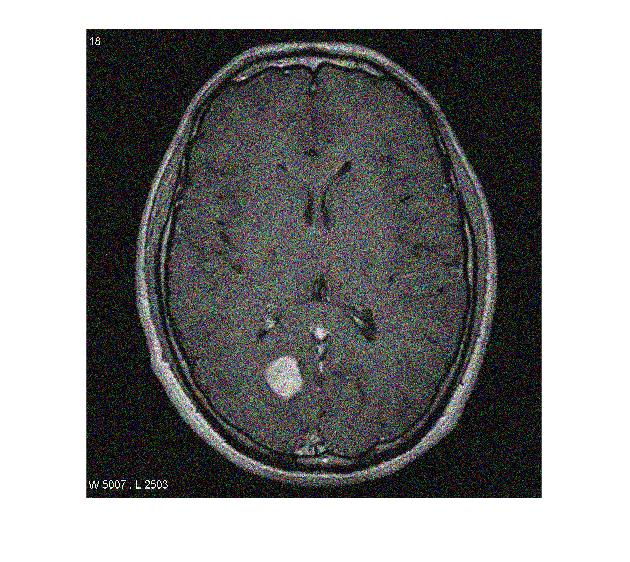Brain_Cancer: (260, 348, 309, 407)
